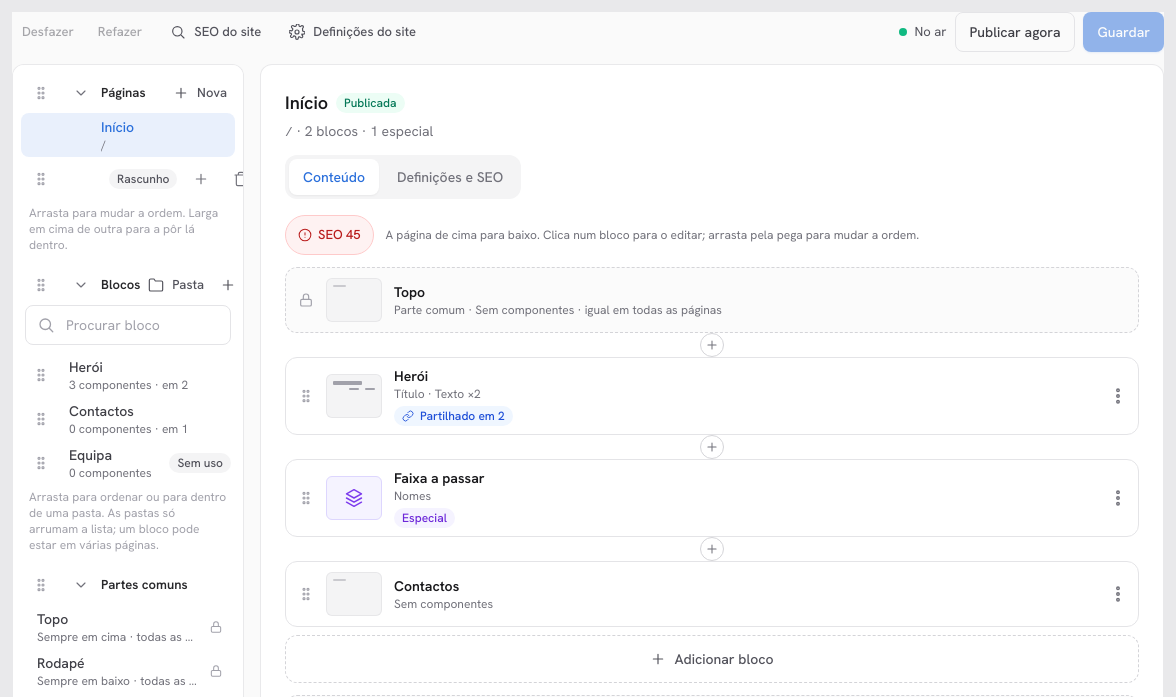
Scenario: Paginas · editor de bloco (F14) › caminho: página › bloco, 'N de M' e anterior/seguinte percorrem os itens da página
The width and height of the screenshot is (1176, 697).
Click the button with aria-label "Editar Herói": (354, 396) [326,358,1098,434]
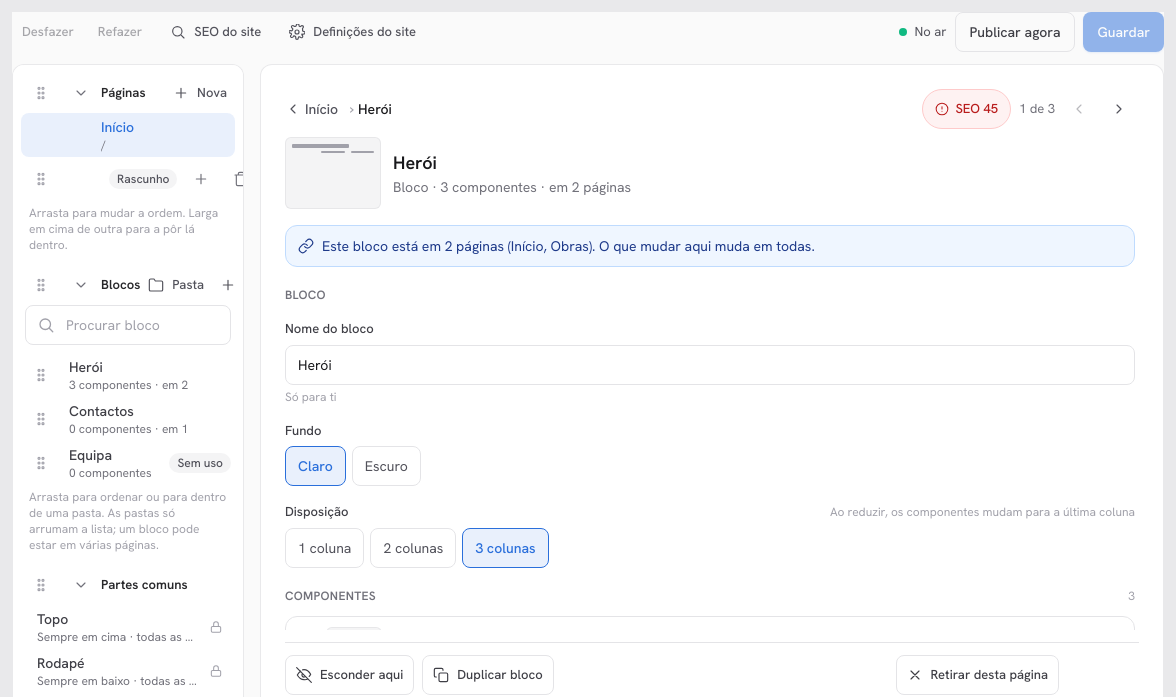
Check: the button named "Bloco anterior" is disabled, box [1059,89,1099,129]
Check: the button with aria-label "Voltar à página Início" is shown, box [277,89,346,129]
Check: the text "1 de 3" is shown, box [1019,100,1055,117]
Click the button named "Bloco seguinte": (1119, 109) [1099,89,1139,129]
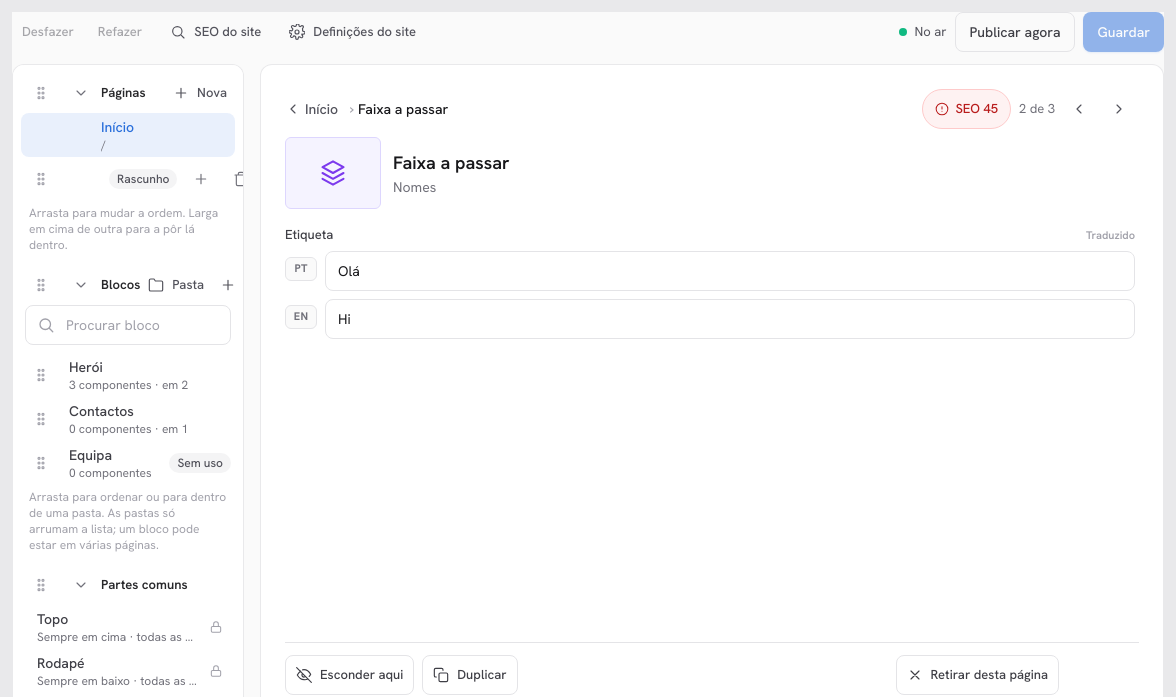
Check: the text "2 de 3" is shown, box [1019,100,1055,117]
Check: the heading "Faixa a passar" is shown, box [393,149,510,177]
Click the button named "Bloco seguinte": (1119, 109) [1099,89,1139,129]
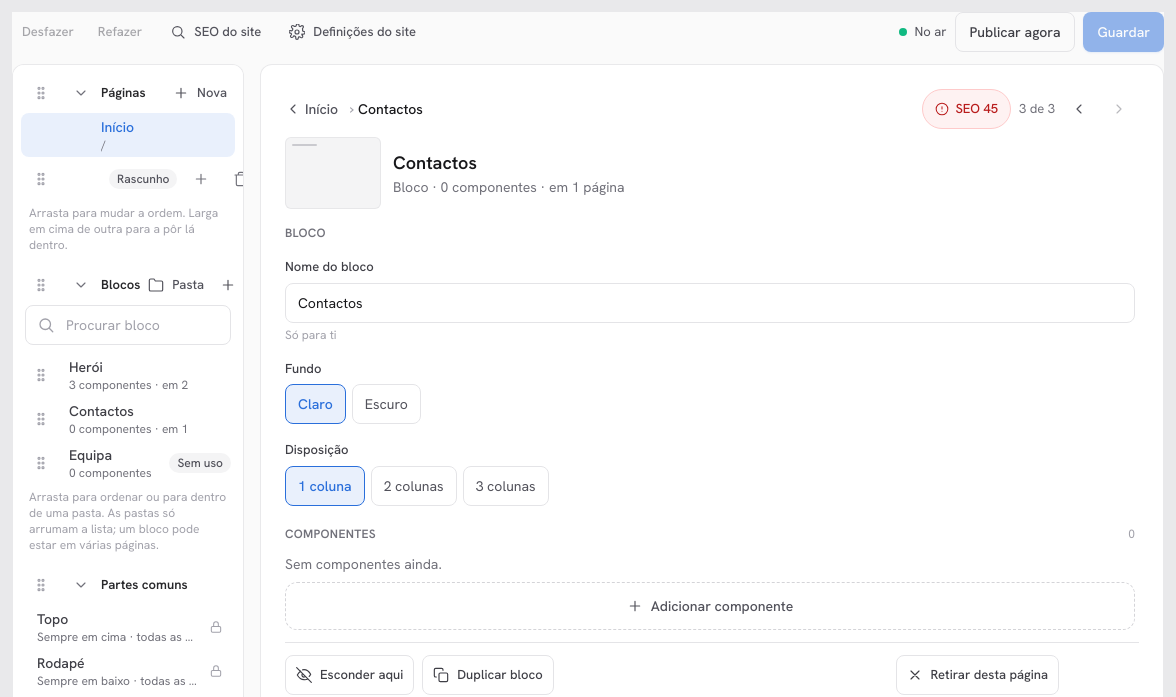
Check: the text "3 de 3" is shown, box [1019,100,1055,117]
Check: the heading "Contactos" is shown, box [393,151,477,174]
Click the button with aria-label "Voltar à página Início": (312, 109) [277,89,346,129]
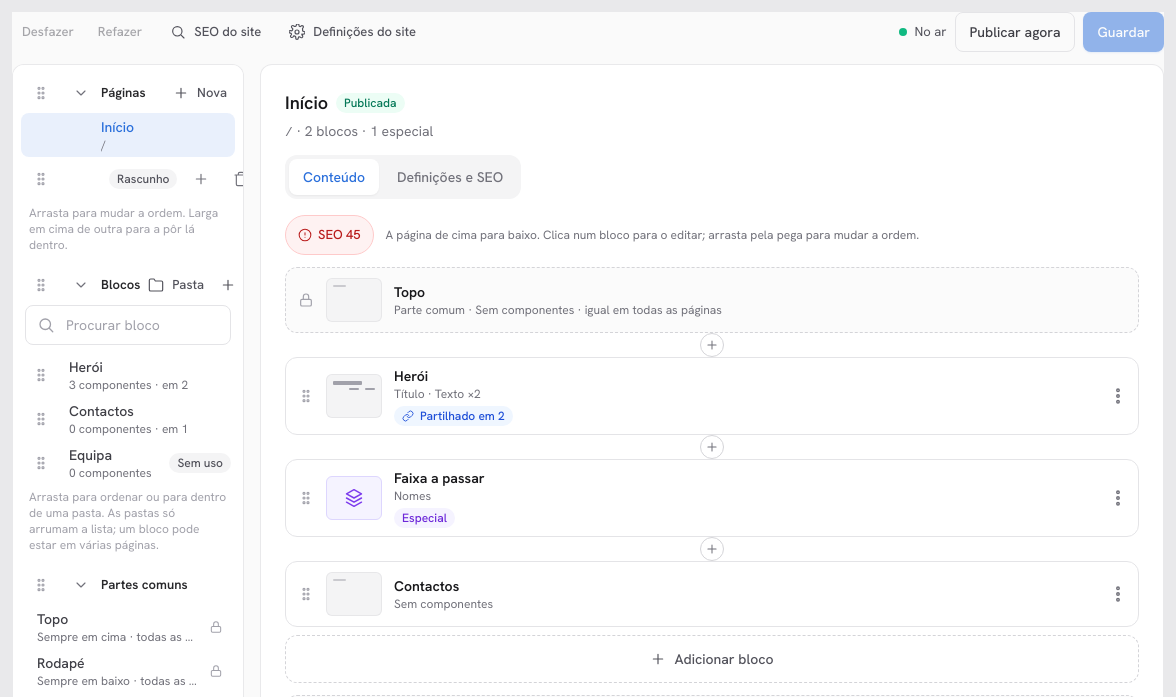
Check: the button with aria-label "Editar Herói" is shown, box [326,358,1098,434]
